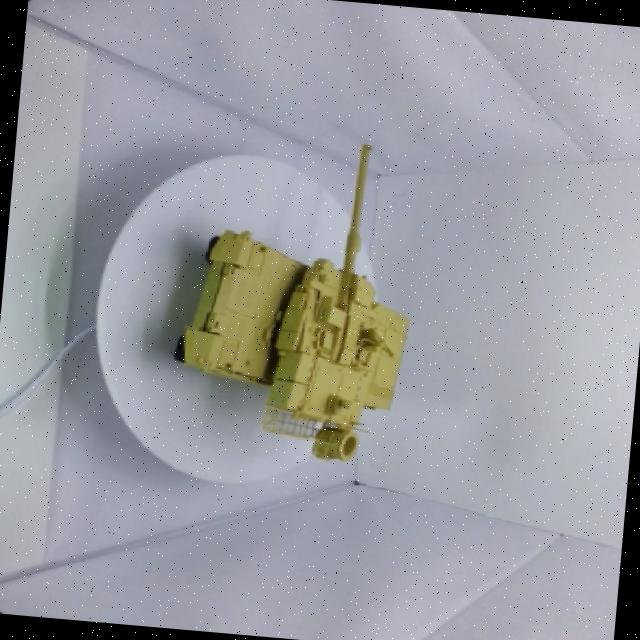korea tank: (138, 98, 466, 500)
